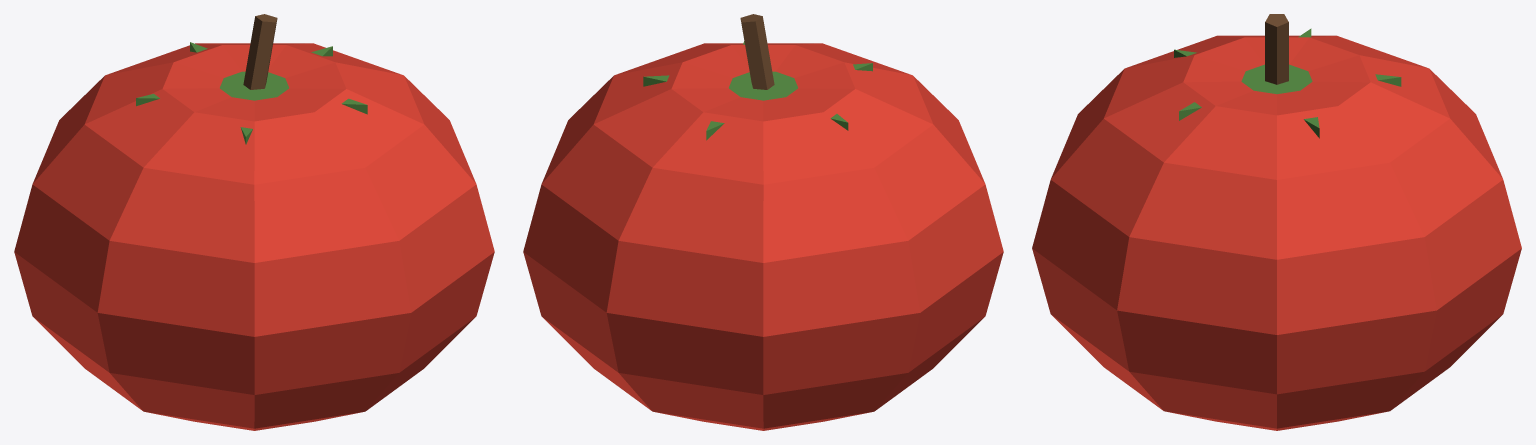
File: Food_Tomato.obj
3 renders of one model, left to right at view 1: azimuth 30°, elevation 25°; view 2: azimuth 150°, elevation 25°; view 3: azimuth 270°, elevation 25°, orthographic.
Bounding box in the file's own units: 1.94 × 1.69 × 1.97.
